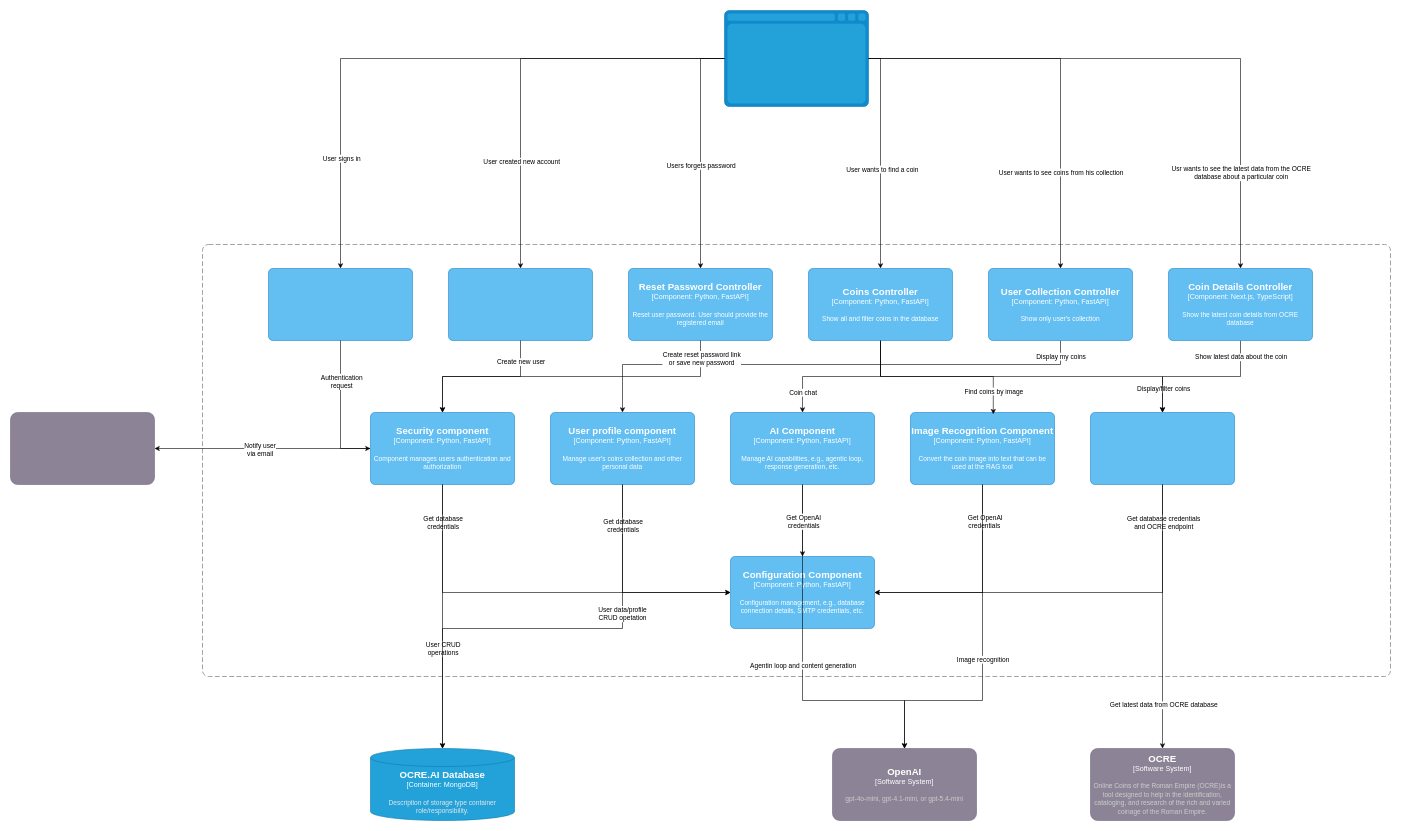
This 1401x831 diagram has some shape labels left out. The box of each missing label's shape, as (x1, y1, x2, y2) in pixels:
Coins Database Component [Component: Python, FastAPI] Coins search and retrieval: (1090, 412, 1234, 484)
Email Service (SMTP) [Software System] Notify users, e.g., reset password emails: (10, 412, 154, 484)
OCRE.UI Backend [Next.js Application (API)]: (202, 244, 1390, 676)
OCRE.UI Frontend [Container: TypeScript, React] React Application: (724, 10, 868, 106)
Sing In Controller [Component: Python, FastAPI] Authenticate the user: (268, 268, 412, 340)
Sing Up Controller [Component: Python, FastAPI] Create new user: (448, 268, 592, 340)
